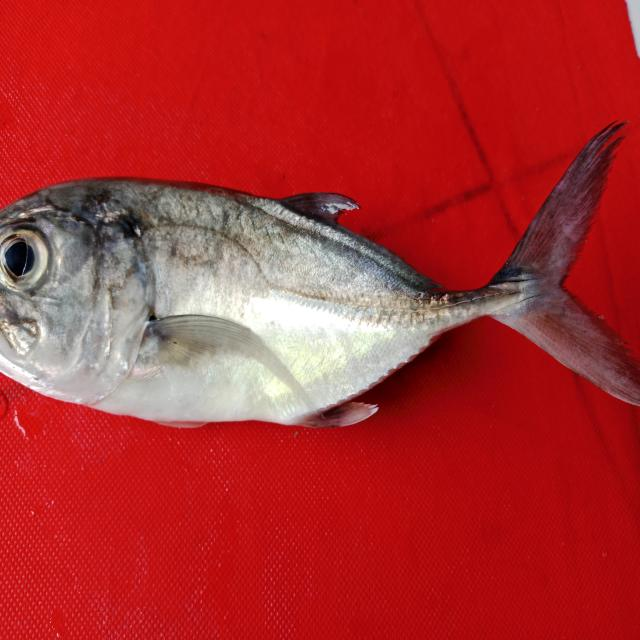ikan: (7, 99, 635, 450)
